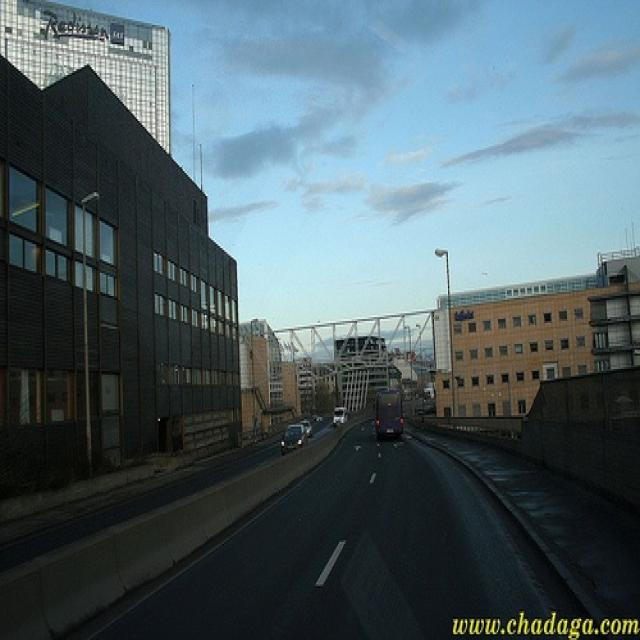car: (371, 403, 406, 446), (279, 421, 307, 453), (330, 406, 350, 428)
